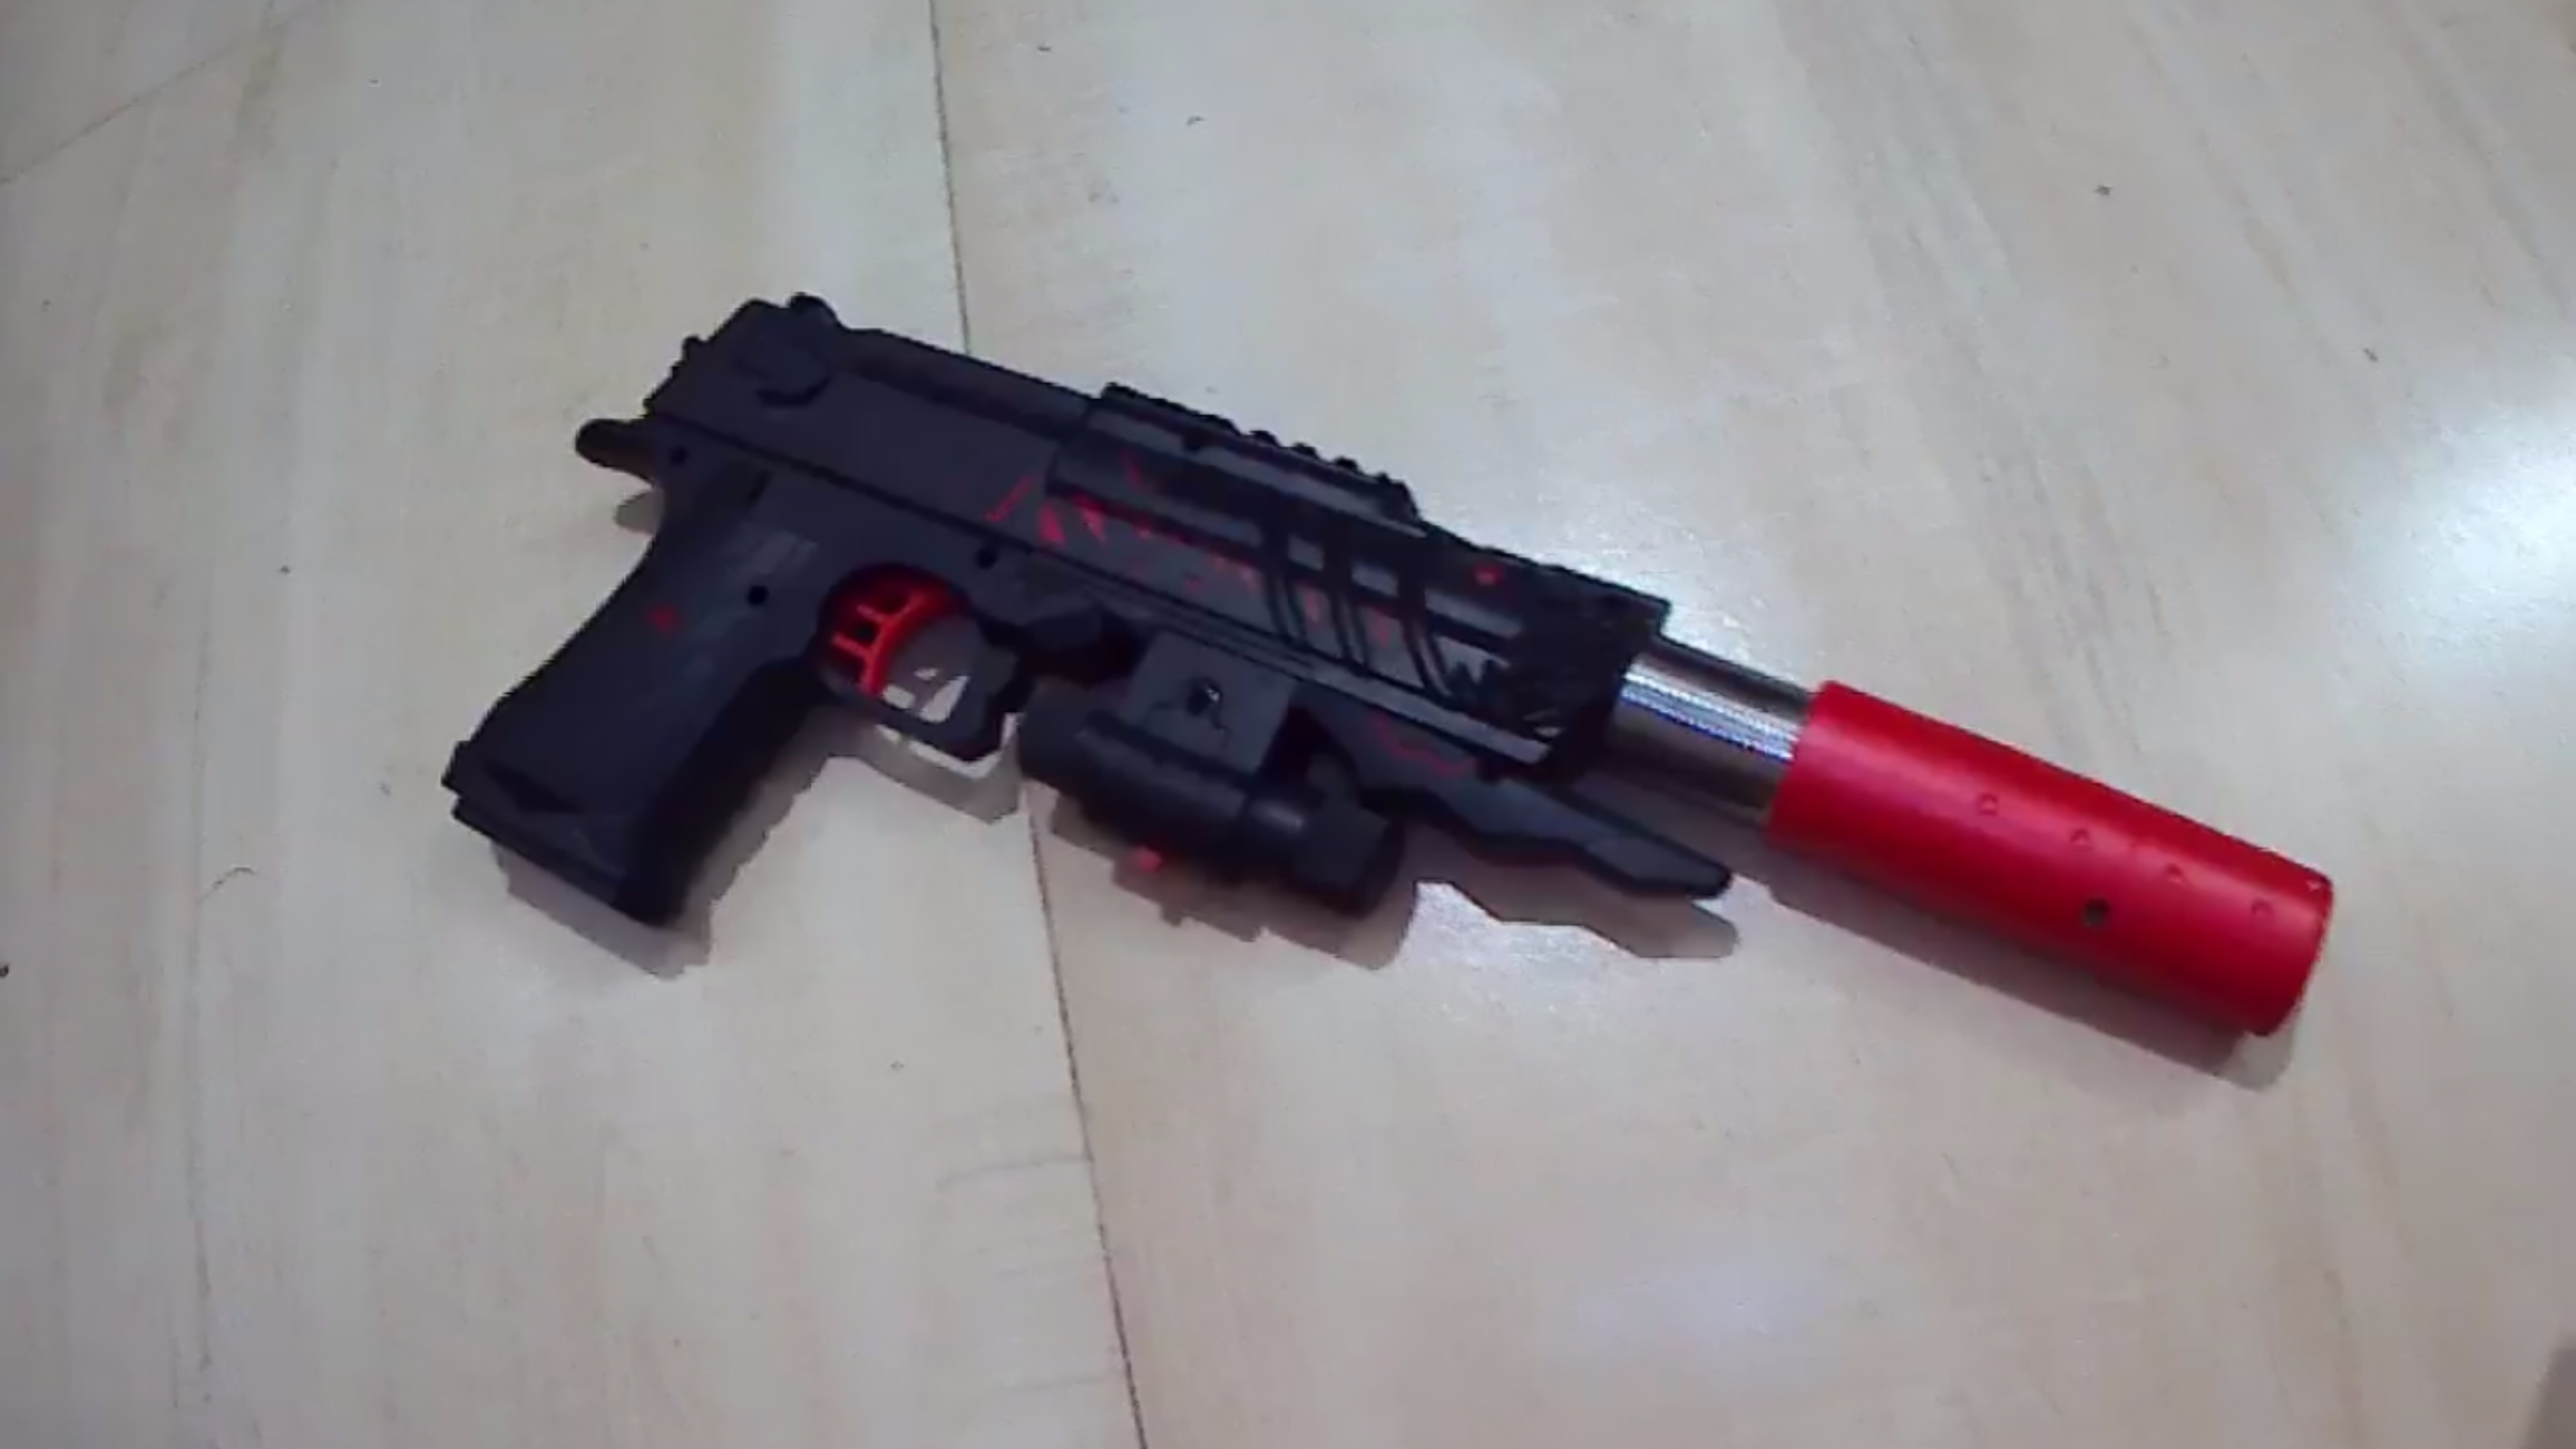handgun: (414, 241, 2392, 1177)
